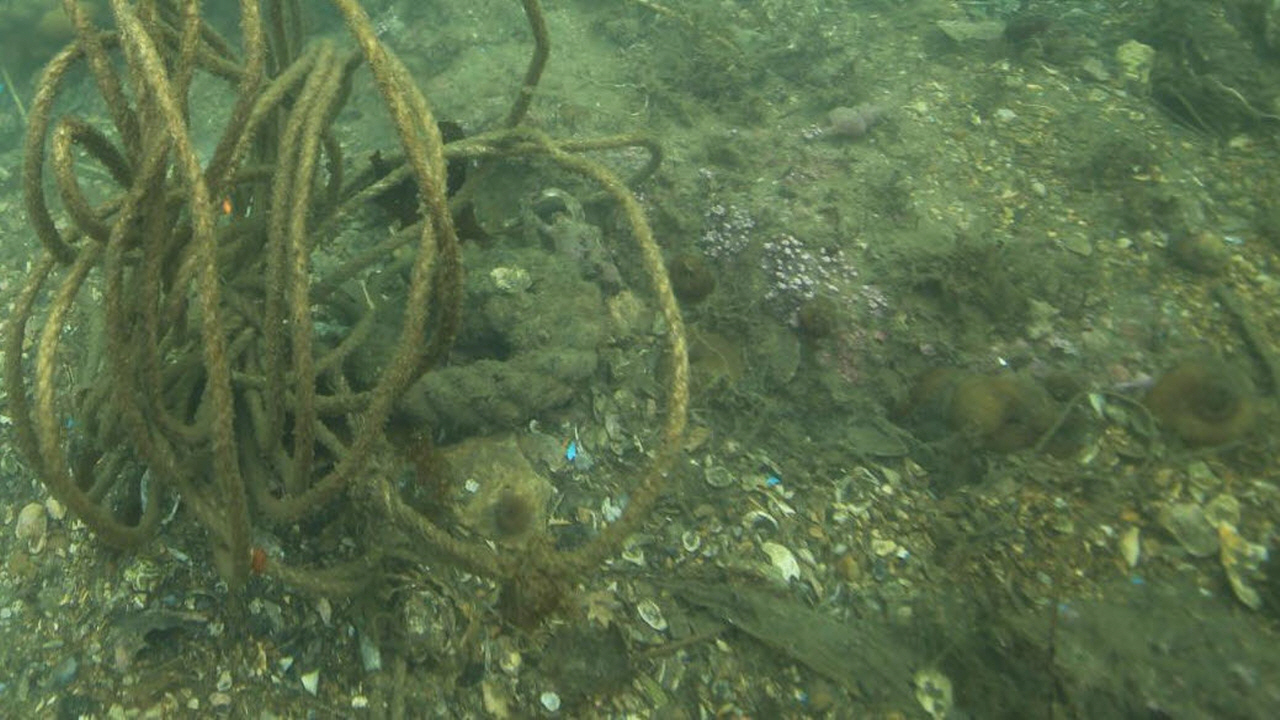bundle of ropes: (0, 1, 696, 603)
